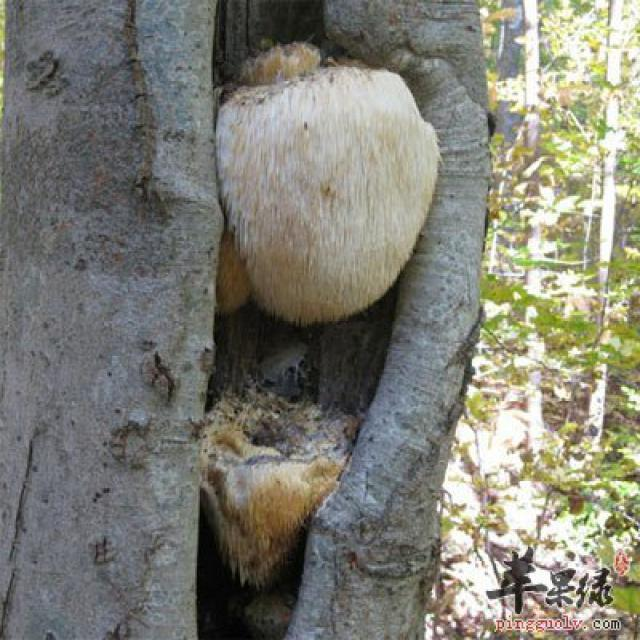Hericium erinaceus: (220, 65, 441, 315)
